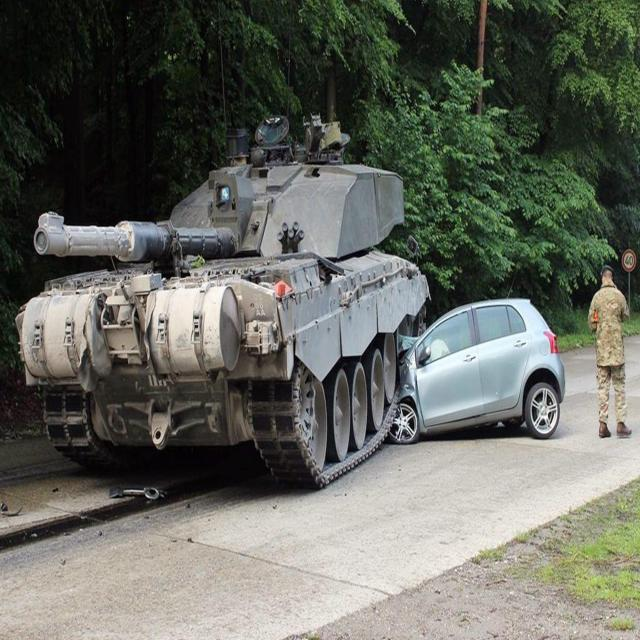Tanks: (36, 158, 422, 484)
